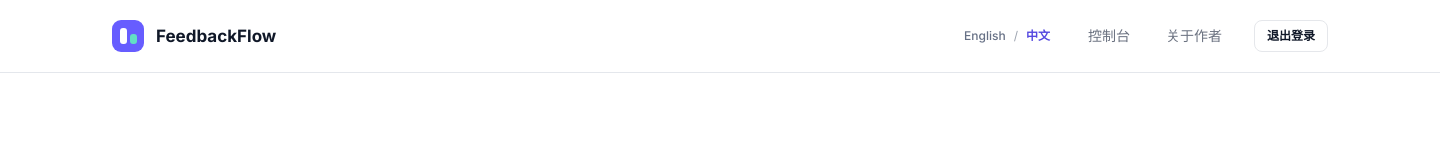
Test: HomeHeader account navigation › localizes signed-in controls and sign-out failures in Chinese
The image size is (1440, 160).
Click the button "退出登录" at (1291, 36), box [1254, 20, 1328, 52]
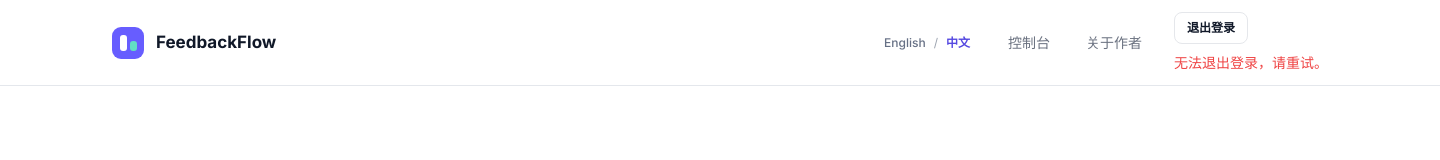
Now the message reads "无法退出登录，请重试。", box [1174, 54, 1328, 71]
